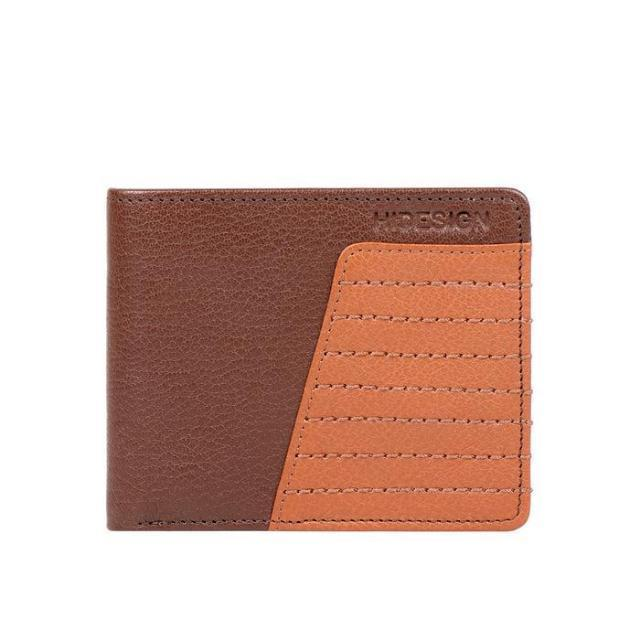wallet: (100, 179, 534, 537)
